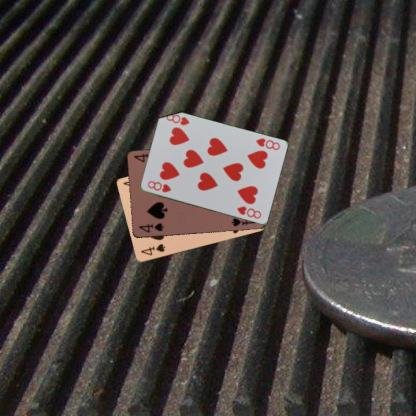4s: (138, 242, 166, 256), (136, 221, 165, 234)
8h: (145, 178, 172, 194), (253, 136, 281, 151)
